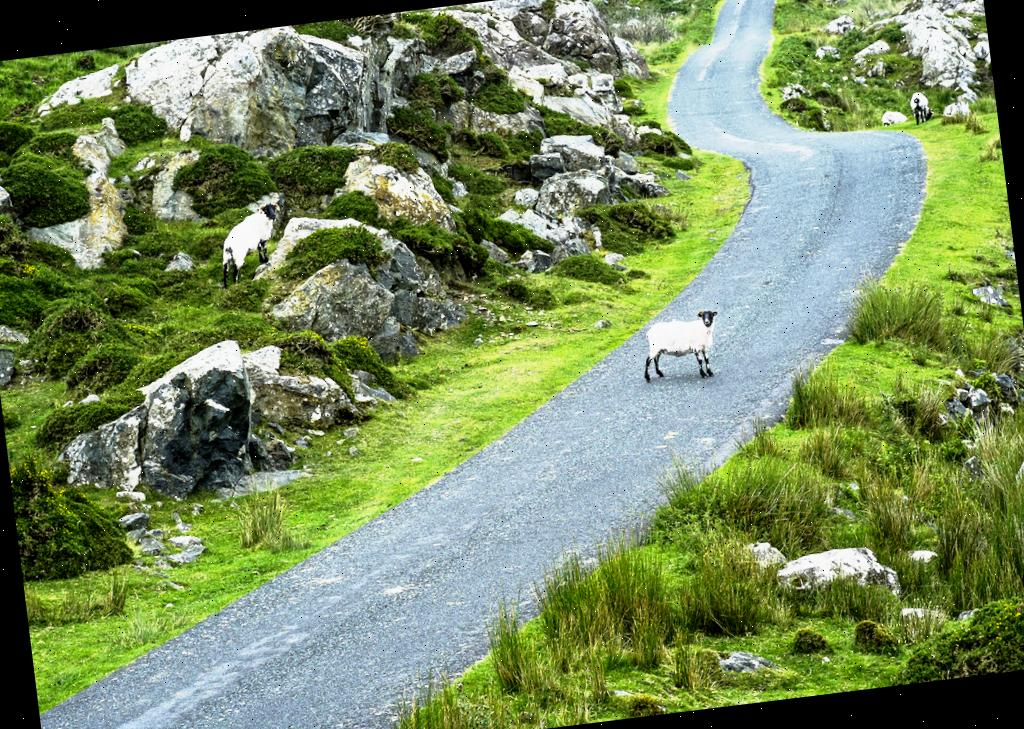Sheep: (632, 310, 724, 387), (217, 202, 287, 278)
